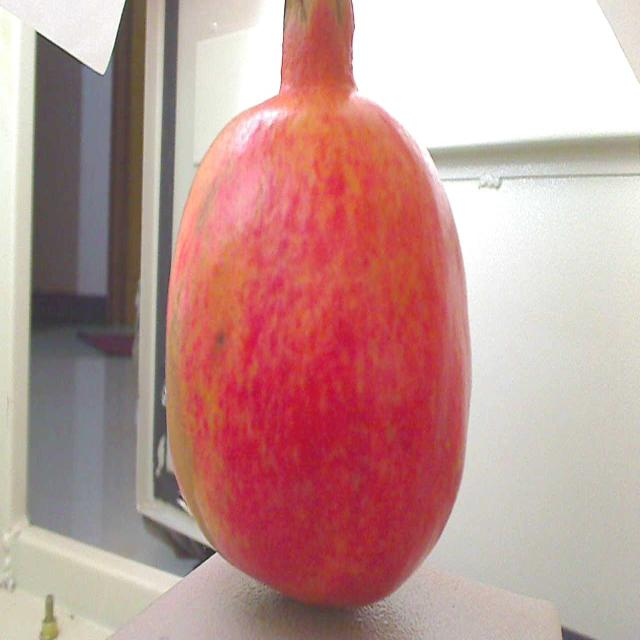pomegranate: (154, 0, 488, 614)
